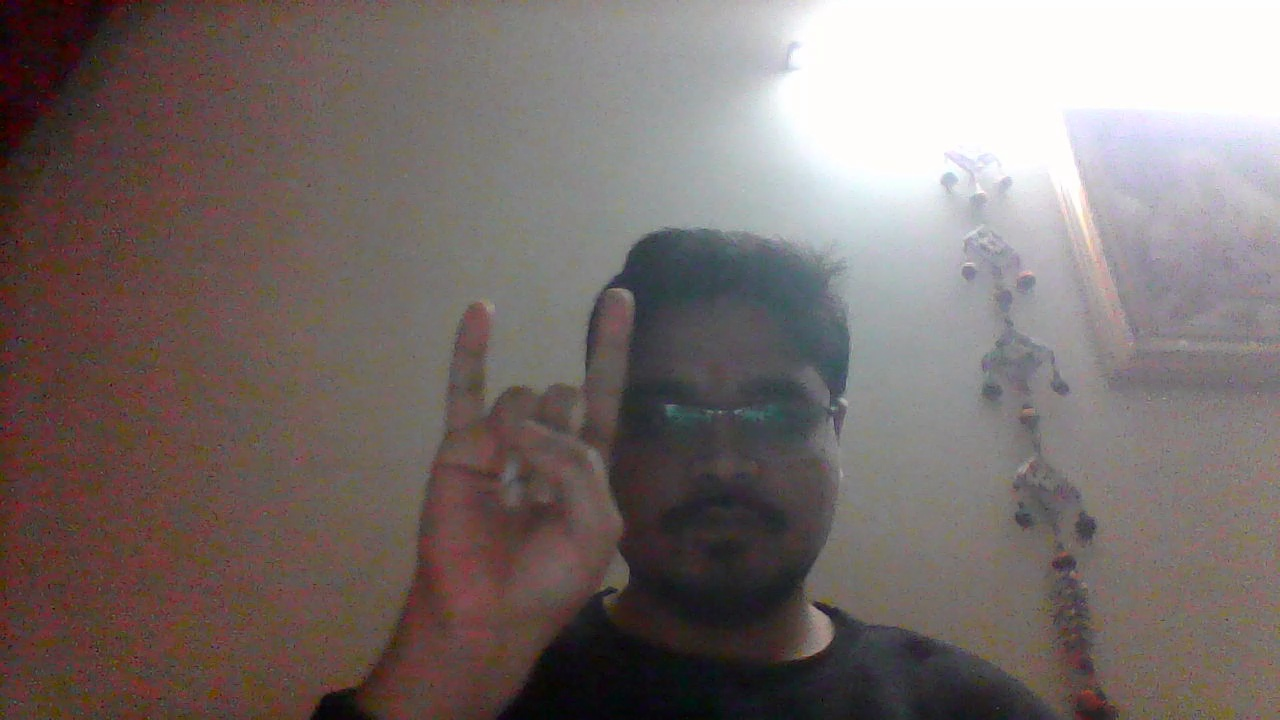ILoveYou: (403, 282, 636, 656)
